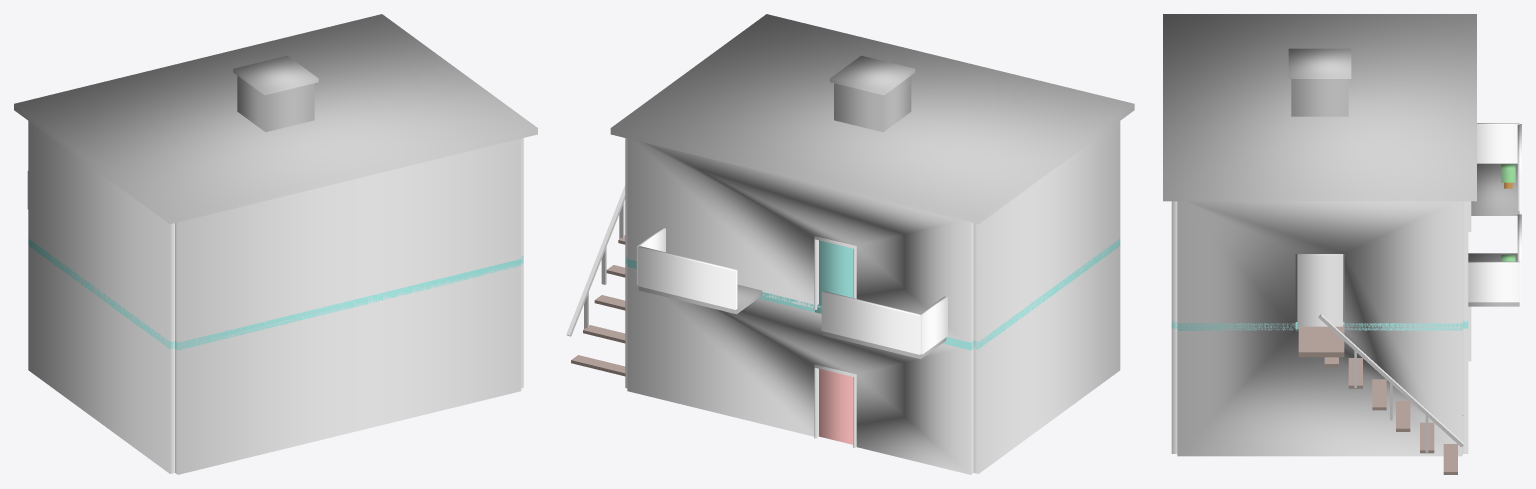
The model's file is Building_1_4.glb.
3 views of the same model, side by side, from view 1: azimuth 30°, elevation 25°; view 2: azimuth 150°, elevation 25°; view 3: azimuth 270°, elevation 25° (orthographic).
Parts seen in each view (by area): view 1: BackWall, RoofSlab, SideWall_L, UtilityBox, AccentStripe_B, UtilityLid, AccentStripe_L, SideWall_R; view 2: RoofSlab, SideWall_L, FrontWall_Lower, FrontWall_Upper, Balcony_R_Rail_F, Balcony_L_Rail_F, UtilityBox, Door_Ground, UtilityLid, Door_Upper_Front, AccentStripe_L, Balcony_L_Rail_L (+4 smaller); view 3: SideWall_R, RoofSlab, Frame_US_r, UtilityBox, Balcony_R_Rail_R, Balcony_L_Slab, UtilityLid, BackWall, AccentStripe_R, Balcony_L_Rail_L, Stair_Landing, Handrail_Outer (+9 smaller).
Part boxes in pixels (<box>): BackWall: <box>175,138,521,474</box>; RoofSlab: <box>14,14,537,223</box>; SideWall_L: <box>28,121,174,473</box>; UtilityBox: <box>237,75,314,132</box>; AccentStripe_B: <box>175,259,521,349</box>; UtilityLid: <box>233,55,318,95</box>; AccentStripe_L: <box>28,238,174,349</box>; SideWall_R: <box>521,138,523,388</box>; RoofSlab: <box>610,14,1134,224</box>; SideWall_L: <box>973,121,1120,473</box>; FrontWall_Lower: <box>627,266,973,474</box>; FrontWall_Upper: <box>627,138,973,345</box>; Balcony_R_Rail_F: <box>637,246,737,309</box>; Balcony_L_Rail_F: <box>821,291,920,354</box>; UtilityBox: <box>834,76,911,131</box>; Door_Ground: <box>819,369,852,444</box>; UtilityLid: <box>830,55,915,95</box>; Door_Upper_Front: <box>819,240,852,304</box>; AccentStripe_L: <box>973,238,1120,349</box>; Balcony_L_Rail_L: <box>920,296,947,354</box>; SideWall_R: <box>1177,201,1462,456</box>; RoofSlab: <box>1163,14,1476,201</box>; Frame_US_r: <box>1297,258,1342,329</box>; UtilityBox: <box>1291,79,1348,116</box>; Balcony_R_Rail_R: <box>1468,261,1519,302</box>; Balcony_L_Slab: <box>1471,163,1519,215</box>; UtilityLid: <box>1288,48,1351,78</box>; BackWall: <box>1171,201,1177,453</box>; AccentStripe_R: <box>1177,322,1462,330</box>; Balcony_L_Rail_L: <box>1477,123,1519,163</box>; Stair_Landing: <box>1298,324,1344,357</box>; Handrail_Outer: <box>1318,314,1463,447</box>.
Bounding box in the file's own units: 3.41 × 2.38 × 2.51.
